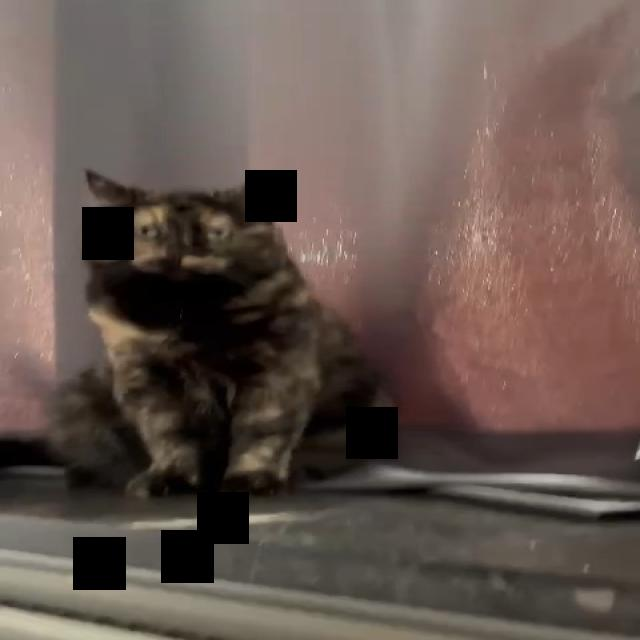authorized: (51, 167, 398, 499)
